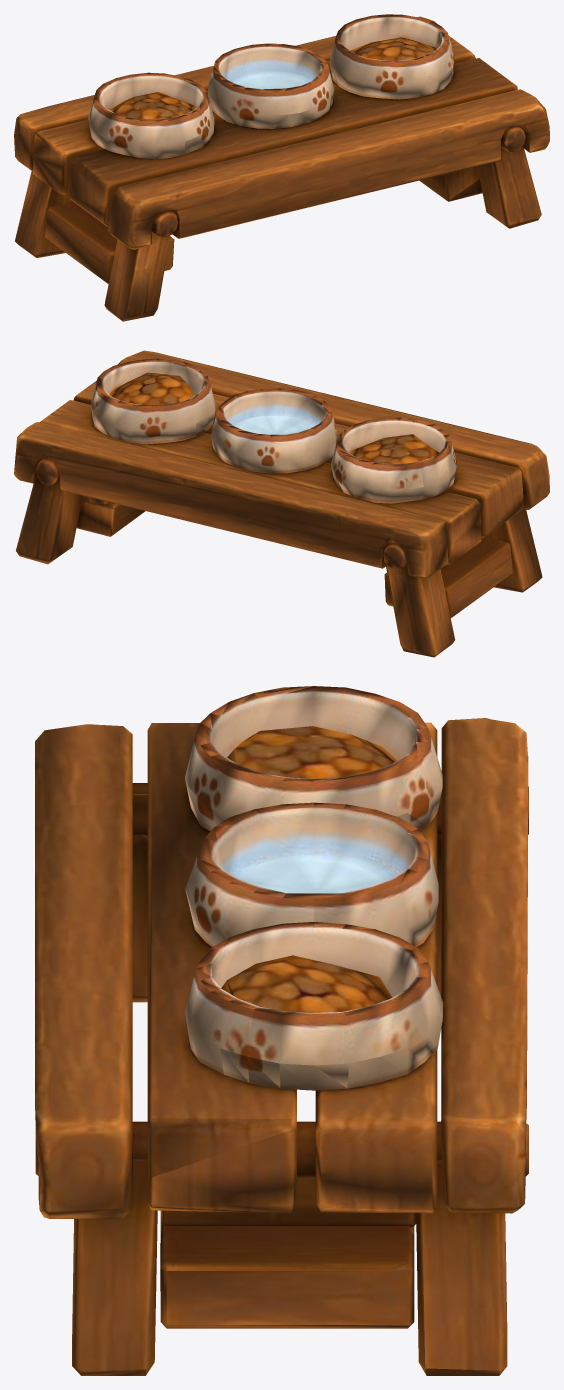
The model's file is cat_food_bowl_table.glb.
3 renders of one model, top to bottom at view 1: azimuth 30°, elevation 25°; view 2: azimuth 150°, elevation 25°; view 3: azimuth 270°, elevation 25°, orthographic. The views are drawn at different scales.
Visible parts, largest first — view 1: cat_food_bowl_table; view 2: cat_food_bowl_table; view 3: cat_food_bowl_table.
Boxes of the visible parts, box(x1,y1,x2,y2) form: cat_food_bowl_table: box(14, 14, 549, 321); cat_food_bowl_table: box(14, 350, 549, 657); cat_food_bowl_table: box(35, 686, 528, 1375).
Size of the model in its own units: 0.8199 by 0.3 by 0.4137.
1 material, 1 textured.
